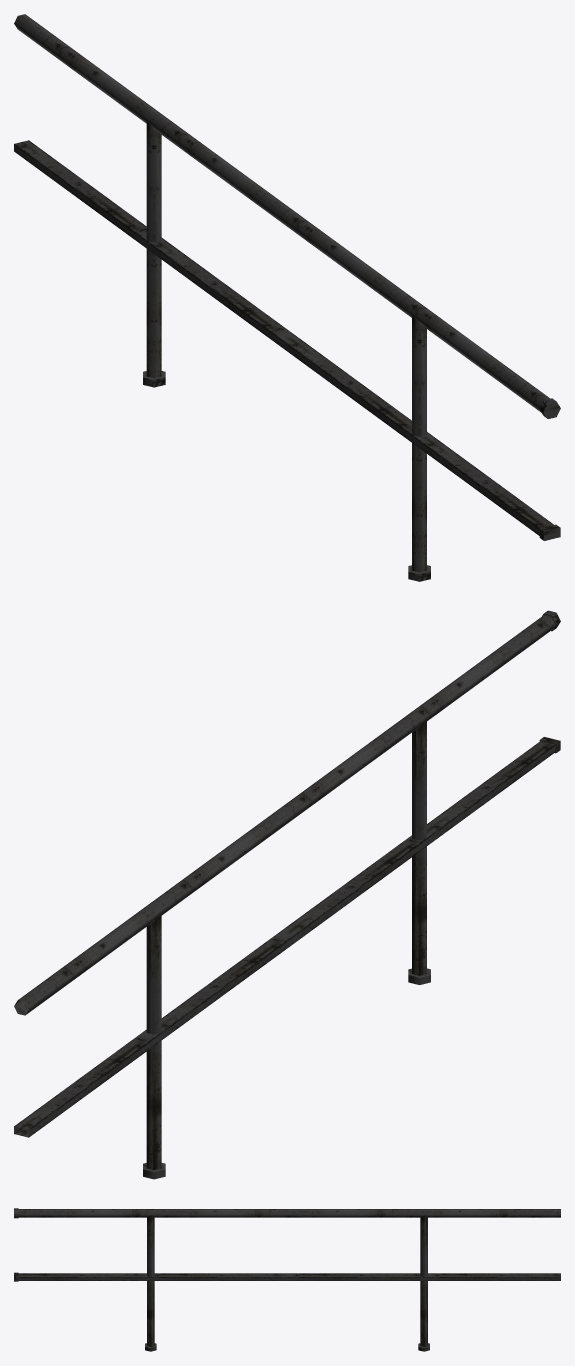
Rendered from cs_handrail_128_double_lod0.glb.
The picture shows the model from 3 angles, top to bottom: view 1: azimuth 30°, elevation 25°; view 2: azimuth 150°, elevation 25°; view 3: azimuth 270°, elevation 25°; orthographic projection. The views are drawn at different scales.
Parts seen in each view (by area): view 1: surf0; view 2: surf0; view 3: surf0.
Boxes of the visible parts, x1=… form: surf0: x1=14, y1=14, x2=560, y2=581; surf0: x1=14, y1=610, x2=560, y2=1179; surf0: x1=14, y1=1208, x2=560, y2=1351.
Bounding box in the file's own units: 3.16 × 36.04 × 128.
